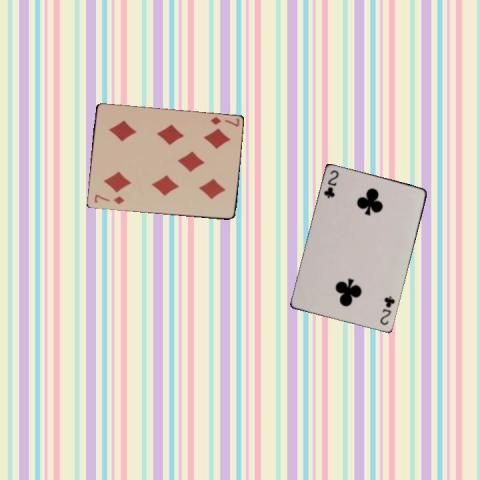2c: (320, 167, 341, 200), (377, 293, 397, 327)
7d: (92, 192, 126, 206), (207, 114, 241, 128)
